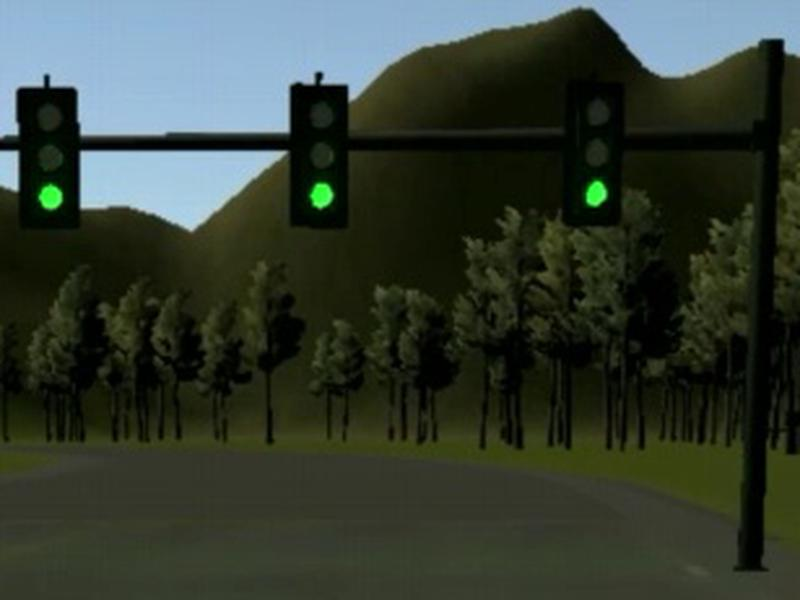Green: (17, 87, 80, 232), (564, 82, 625, 226), (288, 85, 349, 228)
